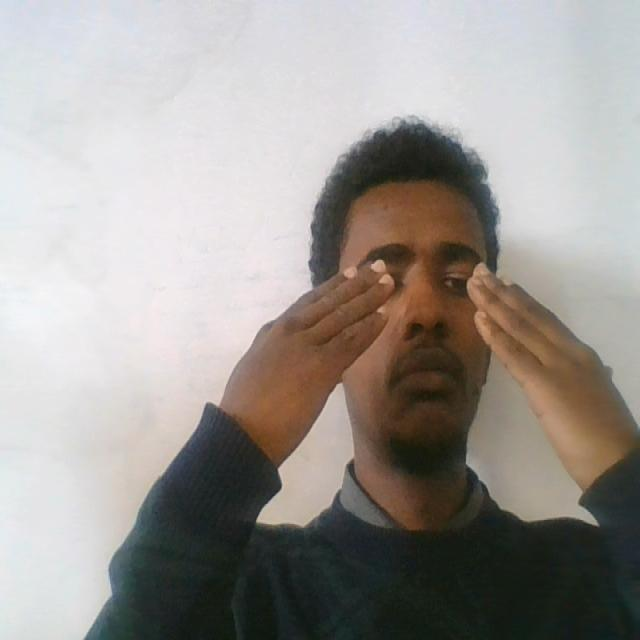thanks: (212, 214, 634, 510)
